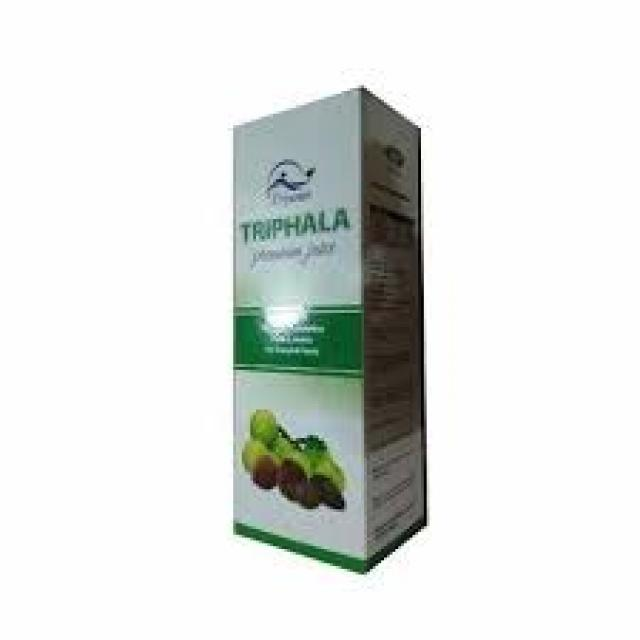non_white_jug: (215, 77, 439, 580)
